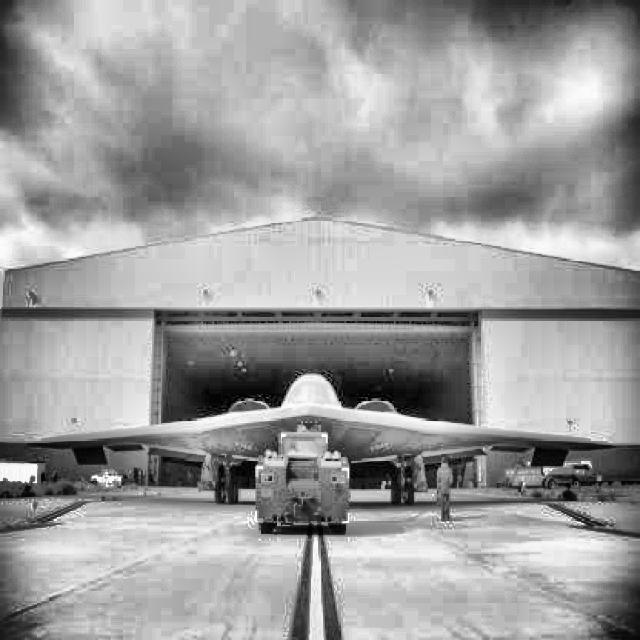B2: (24, 373, 619, 507)
